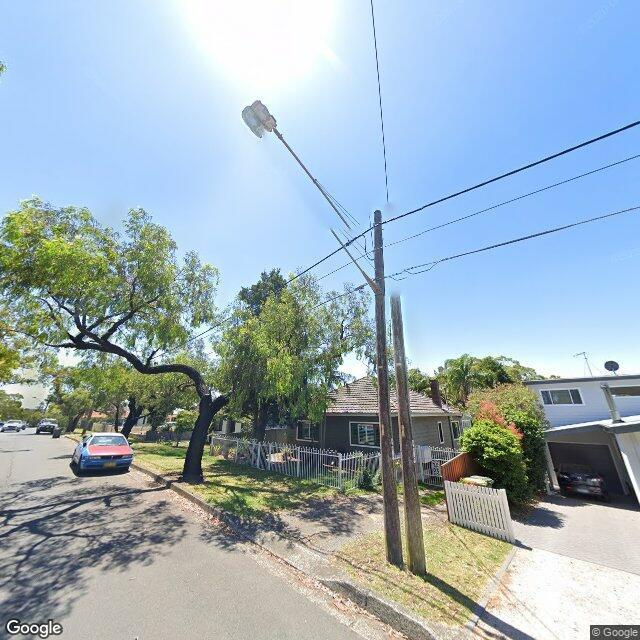streetlight: (240, 100, 380, 296)
timber-pole: (373, 209, 426, 575)
